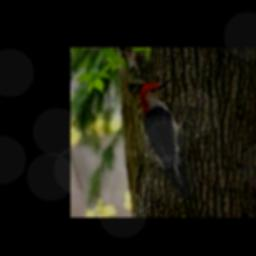Woodpecker: (139, 78, 193, 191)
